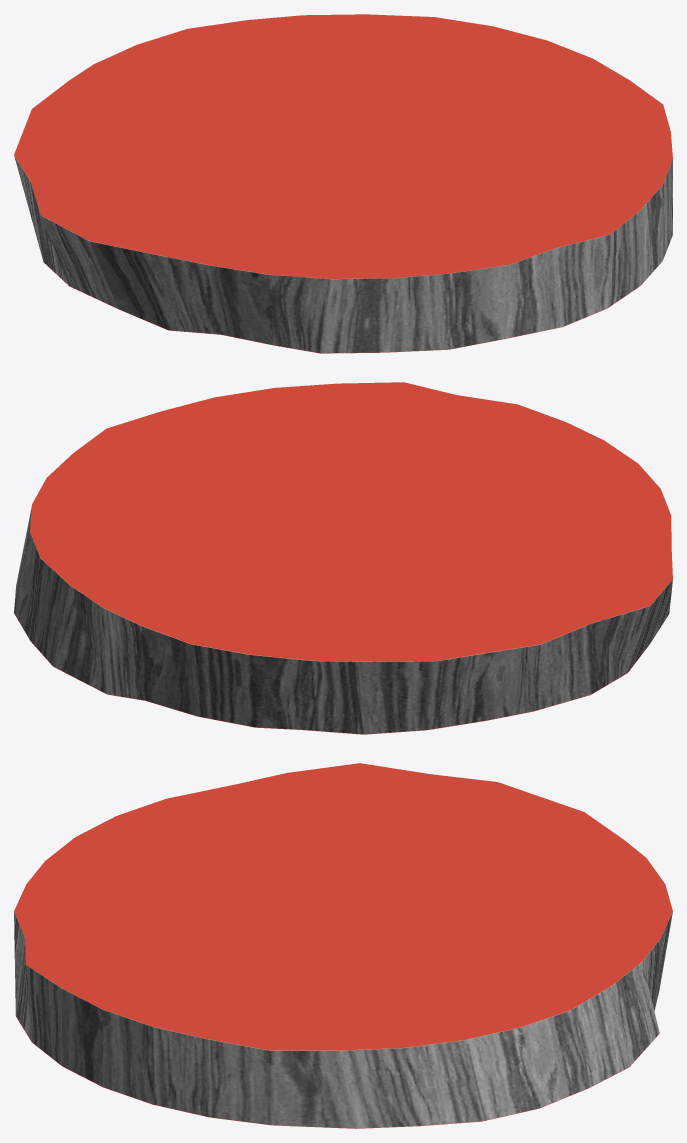
Rendered from round_cuttingboard_fixed.glb.
3 renders of one model, top to bottom at view 1: azimuth 30°, elevation 25°; view 2: azimuth 150°, elevation 25°; view 3: azimuth 270°, elevation 25°, orthographic. The views are drawn at different scales.
Visible parts, largest first — view 1: Cylinder.001, Cylinder; view 2: Cylinder.001, Cylinder; view 3: Cylinder.001, Cylinder.
Part boxes in pixels (x1,y1,x2,y2): Cylinder.001: (14,14,672,353); Cylinder: (14,155,672,353); Cylinder.001: (15,382,672,734); Cylinder: (14,506,672,734); Cylinder.001: (14,763,672,1128); Cylinder: (14,912,672,1128).
Bounding box in the file's own units: 2.08 × 0.2621 × 2.01.
Materials: 3 (2 with a texture image).
